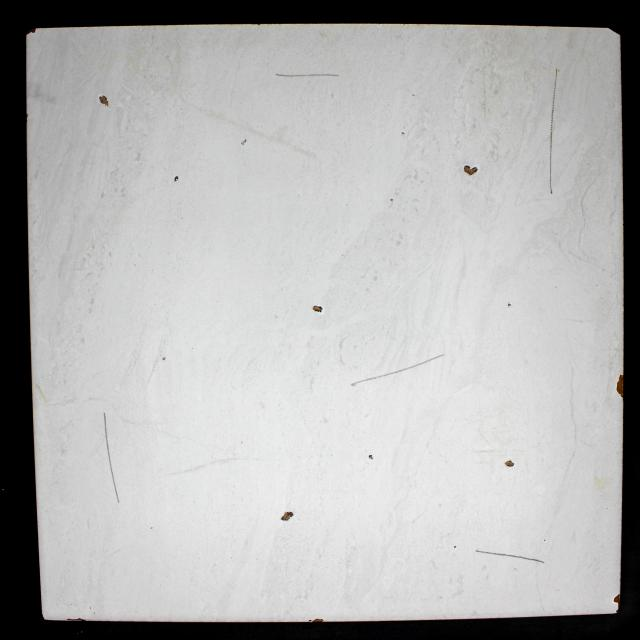edge-chipping: (616, 374, 624, 399), (608, 27, 620, 36), (25, 28, 37, 36), (308, 618, 325, 623), (613, 594, 621, 604), (66, 617, 86, 621), (616, 604, 620, 614), (41, 614, 44, 620)
hole: (463, 165, 479, 176), (98, 94, 110, 108), (280, 510, 294, 522), (311, 304, 324, 312), (504, 460, 515, 468), (173, 175, 180, 182), (368, 454, 374, 460), (389, 197, 394, 202), (507, 302, 512, 307), (400, 131, 406, 135), (162, 356, 166, 362), (453, 545, 457, 549), (243, 138, 247, 142), (543, 539, 546, 542)
line: (549, 67, 557, 195), (350, 375, 385, 387), (275, 72, 340, 78), (386, 365, 418, 375), (419, 353, 446, 364), (474, 549, 510, 557), (511, 555, 545, 563), (102, 412, 109, 444), (112, 476, 120, 504), (107, 446, 113, 475)
